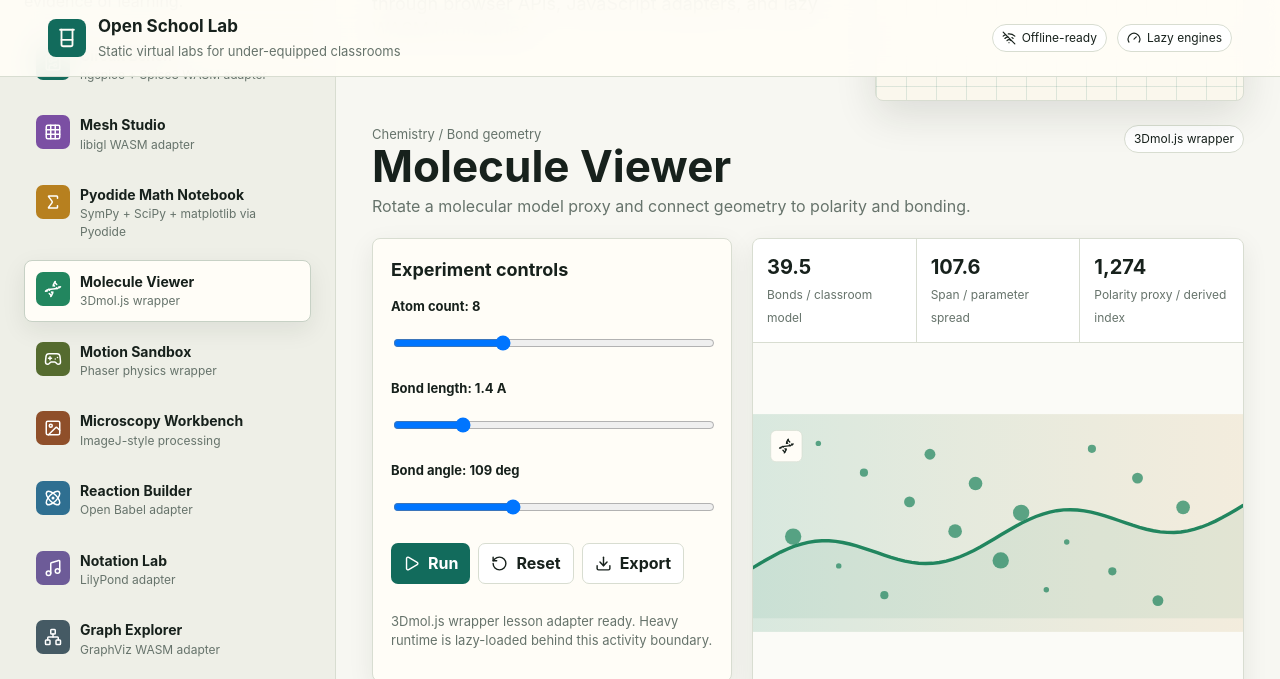
Test: Open School Lab app › resets control values instead of leaking the previous lab's state
(page scrolled)
Click the button "Motion Sandbox Phaser physics wrapper". click: (168, 361)
box: [24,330,311,391]
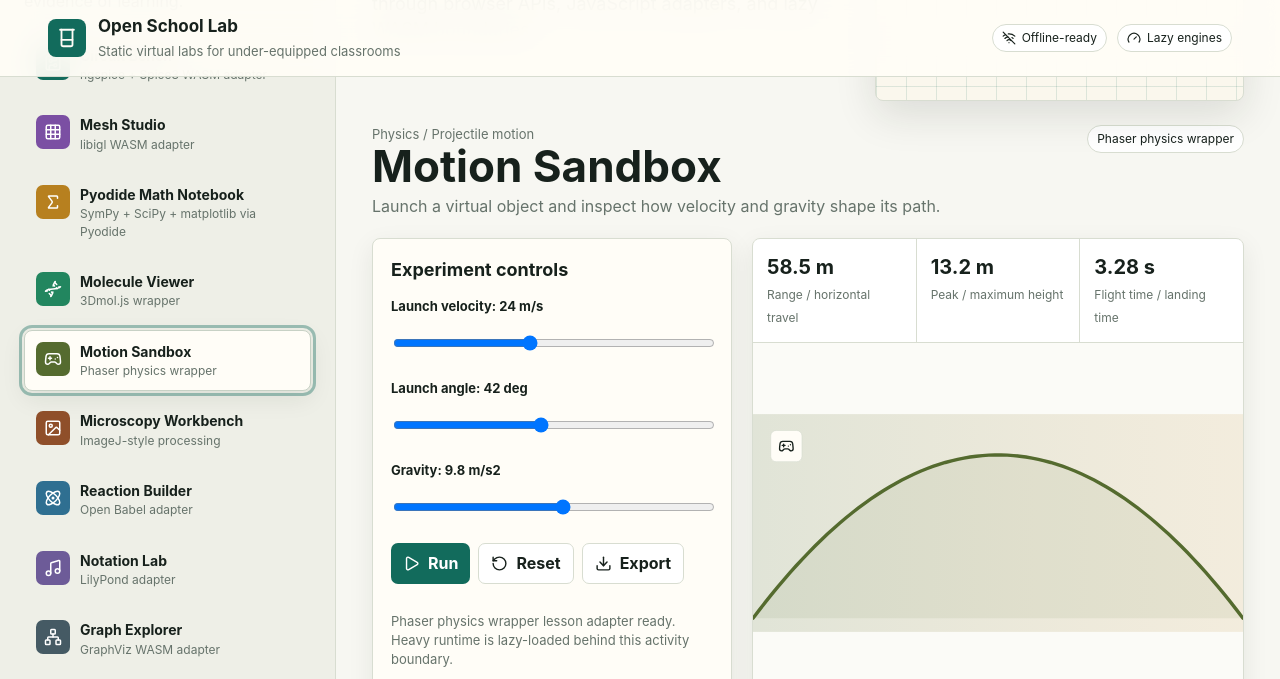
Check: the heading "Motion Sandbox" is shown, box [372,139,722,193]
Check: the slider labelled "Launch velocity: 24 m/s" is shown, box [393,324,715,362]
